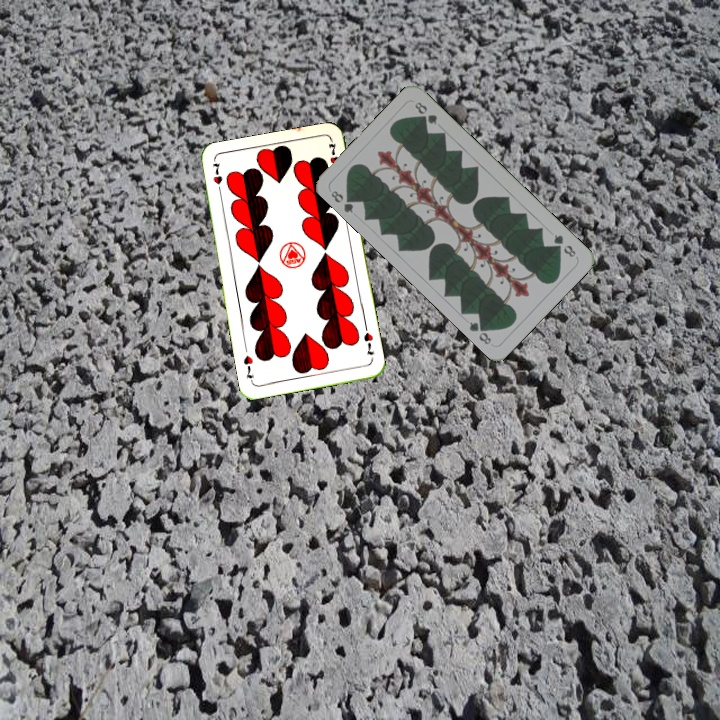G8: (327, 186, 358, 215), (549, 230, 578, 260)
H7: (208, 157, 225, 198), (359, 328, 377, 358)
